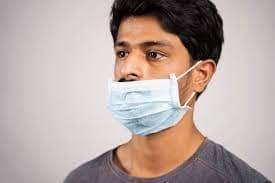with_incorrect_mask: (106, 18, 192, 138)
